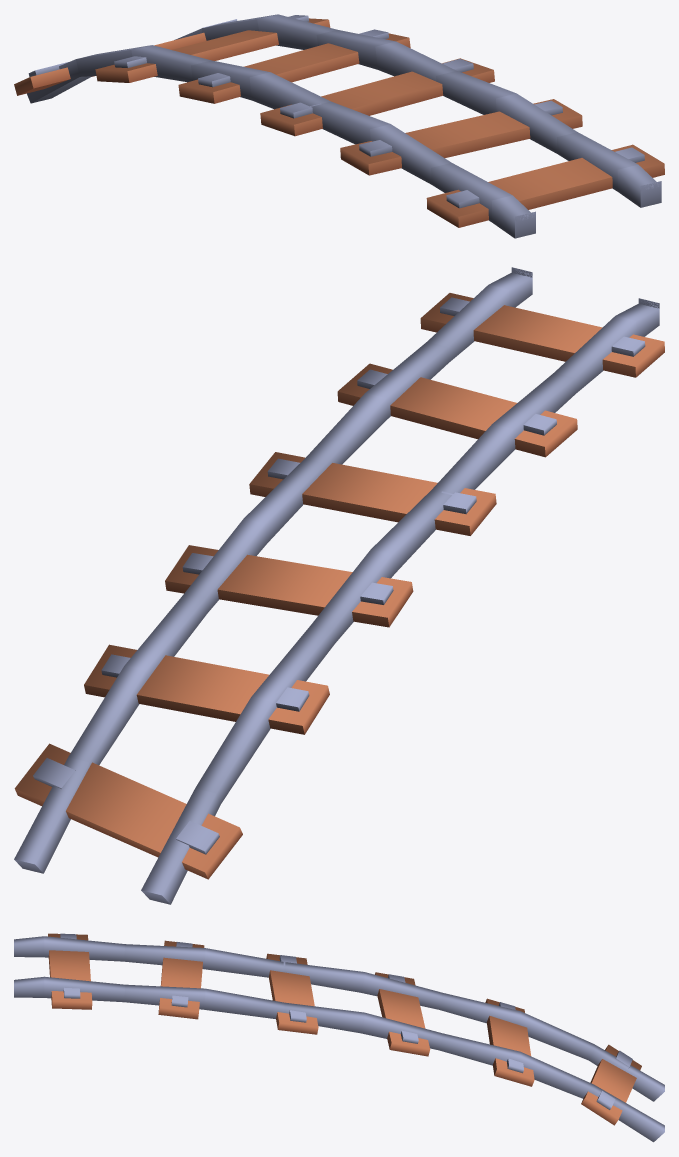
Rendered from railroad-damaged-straight-hill-end.glb.
3 renders of one model, top to bottom at view 1: azimuth 30°, elevation 25°; view 2: azimuth 150°, elevation 25°; view 3: azimuth 270°, elevation 25°, orthographic. The views are drawn at different scales.
Parts seen in each view (by area): view 1: railroad-damaged-straight-hill-end; view 2: railroad-damaged-straight-hill-end; view 3: railroad-damaged-straight-hill-end.
Boxes of the visible parts, x1,y1,x2,y2 form: railroad-damaged-straight-hill-end: (14, 14, 664, 238); railroad-damaged-straight-hill-end: (14, 267, 664, 904); railroad-damaged-straight-hill-end: (14, 933, 664, 1142).
Size of the model in its own units: 1.03 by 1.1 by 4.07.
